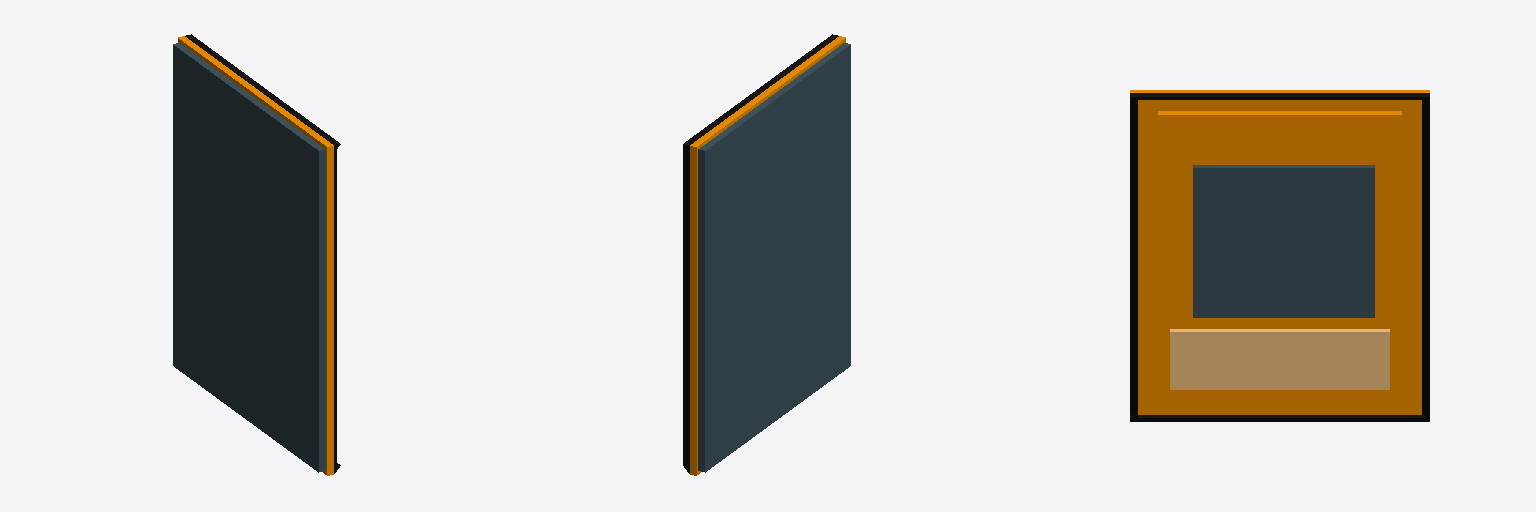
Rendered from termostato.obj.
3 renders of one model, left to right at view 1: azimuth 30°, elevation 25°; view 2: azimuth 150°, elevation 25°; view 3: azimuth 270°, elevation 25°, orthographic.
Visible parts, largest first — view 1: group[number redacted], group[number redacted], group[number redacted], group[number redacted]; view 2: group[number redacted], group[number redacted], group[number redacted], group[number redacted]; view 3: group[number redacted], group[number redacted], group[number redacted], group[number redacted], group[number redacted], group[number redacted], group[number redacted], group[number redacted].
Part boxes in pixels (x1,y1,x2,y2): group[number redacted]: (173, 43, 325, 472); group[number redacted]: (178, 36, 333, 475); group[number redacted]: (185, 34, 340, 152); group[number redacted]: (331, 141, 336, 466); group[number redacted]: (698, 43, 850, 472); group[number redacted]: (690, 36, 845, 475); group[number redacted]: (683, 143, 692, 466); group[number redacted]: (684, 34, 837, 144); group[number redacted]: (1130, 90, 1429, 414); group[number redacted]: (1193, 165, 1374, 317); group[number redacted]: (1170, 329, 1389, 389); group[number redacted]: (1158, 111, 1401, 149); group[number redacted]: (1130, 93, 1137, 417); group[number redacted]: (1422, 94, 1429, 417); group[number redacted]: (1130, 415, 1429, 421); group[number redacted]: (1130, 93, 1429, 99).
Bounding box in the file's own units: 0.03 × 0.46 × 0.38.